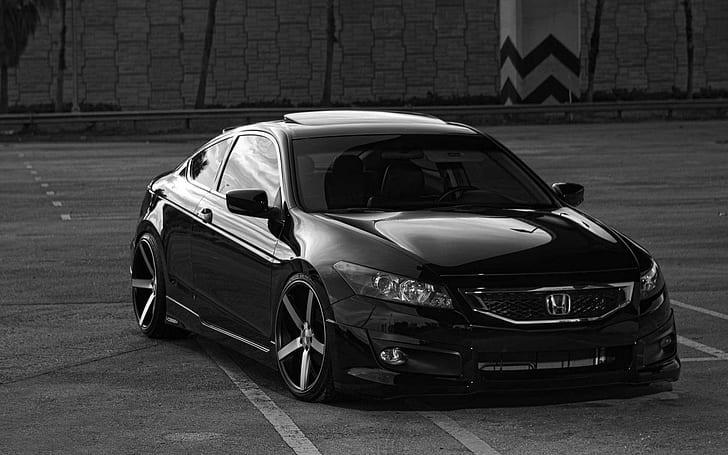Car hood: (298, 204, 662, 288)
Driver-s door - -F-R-: (190, 128, 292, 349)
Fender - -F-R-: (263, 207, 355, 372)
Front bumper: (323, 294, 686, 401)
Headlight - -L-: (633, 252, 669, 307)
Headlight - -R-: (326, 254, 457, 315)
Side bumper - -R-: (161, 294, 286, 376)
Side mirror - -L-: (544, 177, 592, 207)
Side mirror - -R-: (222, 185, 282, 222)
